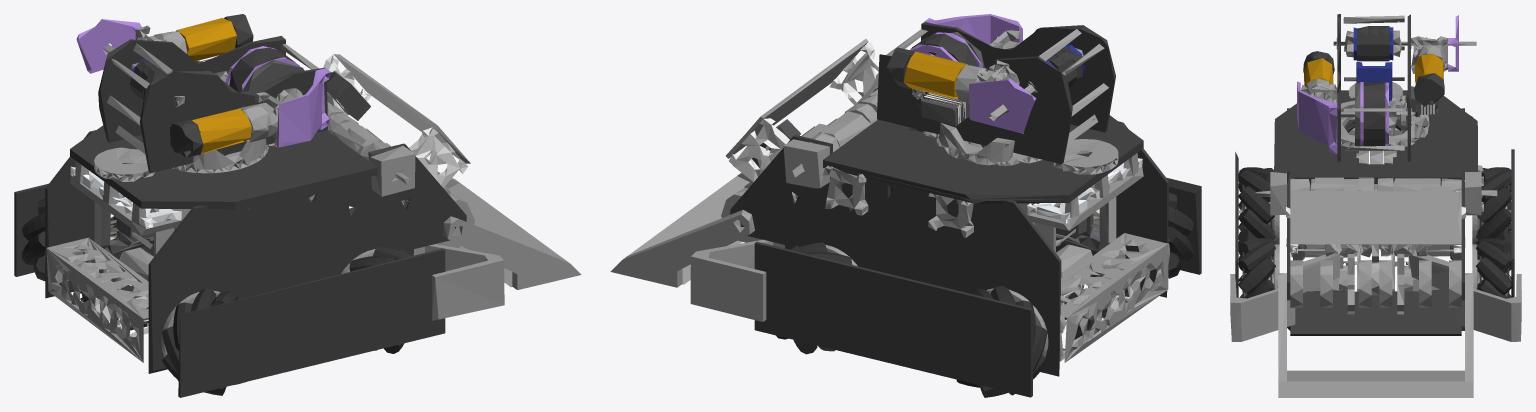
Rendered from dhb-low.glb.
3 views of the same model, side by side, from view 1: azimuth 30°, elevation 25°; view 2: azimuth 150°, elevation 25°; view 3: azimuth 270°, elevation 25° (orthographic). The views are drawn at different scales.
Parts seen in each view (by area): view 1: body, turret, arm, flywheel, wheel_br, wheel_bl, wheel_fr, flywheel_top; view 2: body, turret, arm, wheel_bl, flywheel, wheel_br, flywheel_top, wheel_fl; view 3: body, turret, arm, intake_front, wheel_br, flywheel, wheel_bl, wheel_fr, wheel_fl, flywheel_top, intake_3, transfer (+1 smaller).
Boxes of the visible parts, left/top/right/bottom form: body: left=14, top=54, right=504, bottom=397; turret: left=76, top=14, right=331, bottom=173; arm: left=442, top=178, right=581, bottom=289; flywheel: left=225, top=46, right=304, bottom=102; wheel_br: left=161, top=288, right=244, bottom=395; wheel_bl: left=22, top=199, right=82, bottom=293; wheel_fr: left=341, top=246, right=413, bottom=353; flywheel_top: left=103, top=44, right=184, bottom=107; body: left=690, top=39, right=1201, bottom=397; turret: left=877, top=14, right=1115, bottom=165; arm: left=610, top=172, right=754, bottom=287; wheel_bl: left=956, top=285, right=1048, bottom=397; flywheel: left=910, top=32, right=984, bottom=99; wheel_br: left=1168, top=192, right=1193, bottom=278; flywheel_top: left=988, top=44, right=1085, bottom=120; wheel_fl: left=776, top=242, right=857, bottom=354; body: left=1230, top=82, right=1521, bottom=341; turret: left=1297, top=14, right=1458, bottom=161; arm: left=1278, top=273, right=1473, bottom=397; intake_front: left=1290, top=254, right=1461, bottom=314; wheel_br: left=1238, top=167, right=1279, bottom=244; flywheel: left=1332, top=82, right=1415, bottom=146; wheel_bl: left=1472, top=167, right=1511, bottom=244; wheel_fr: left=1238, top=238, right=1279, bottom=298; wheel_fl: left=1472, top=238, right=1511, bottom=298; flywheel_top: left=1333, top=26, right=1476, bottom=61; intake_3: left=1324, top=244, right=1427, bottom=262; transfer: left=1356, top=151, right=1396, bottom=164.
Size of the model in its own units: 0.489 by 0.3075 by 0.34.
